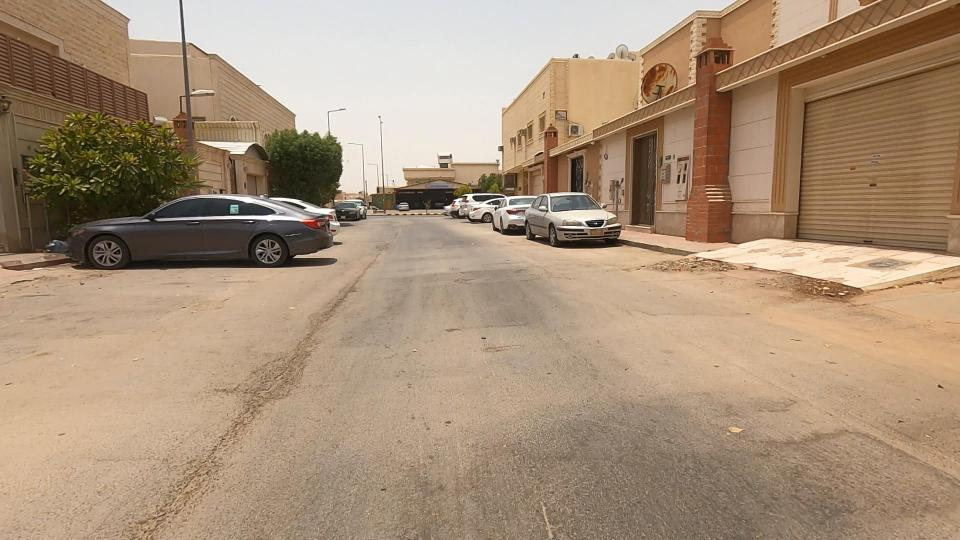POTHOLES: (203, 317, 345, 427), (257, 269, 411, 367)
